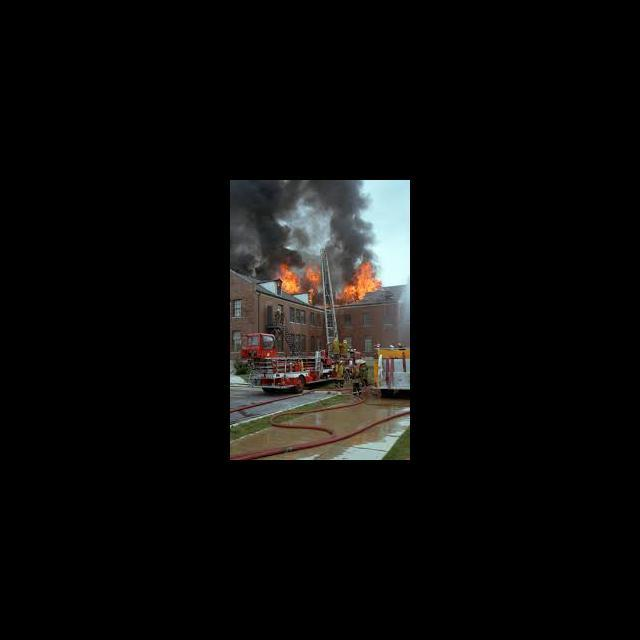Fire: (340, 260, 383, 302), (278, 261, 324, 300)
Smoke: (277, 180, 377, 259), (230, 181, 274, 279)
